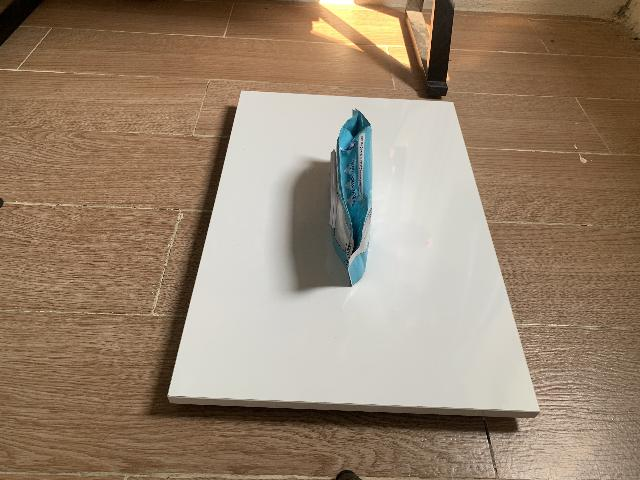Let-green_alcohol_wipes: (329, 109, 372, 287)
